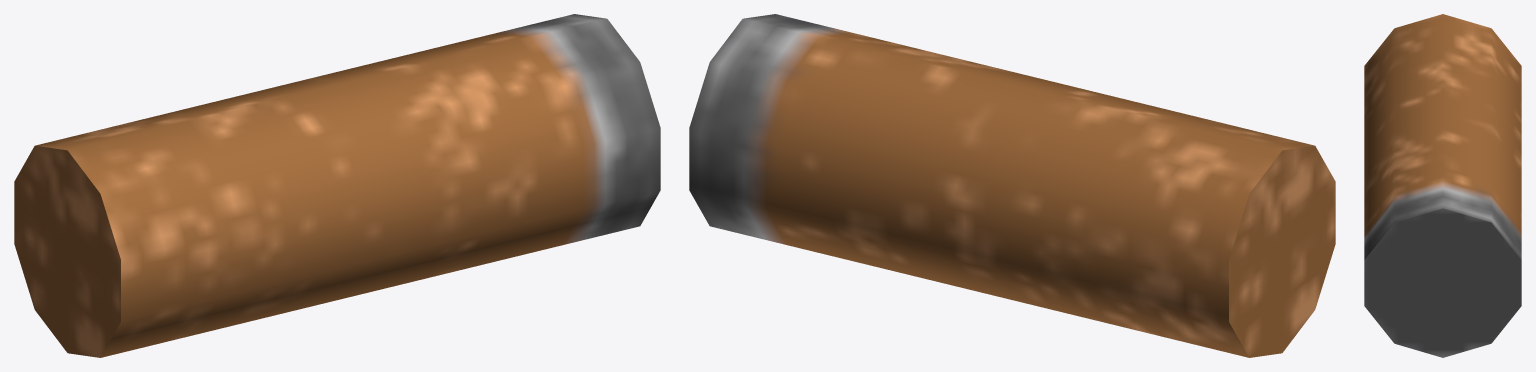
Rendered from SM_Cigarette_03.fbx.
3 renders of one model, left to right at view 1: azimuth 30°, elevation 25°; view 2: azimuth 150°, elevation 25°; view 3: azimuth 270°, elevation 25°, orthographic. The views are drawn at different scales.
Parts seen in each view (by area): view 1: SM_Cigarette_03_LOD0; view 2: SM_Cigarette_03_LOD0; view 3: SM_Cigarette_03_LOD0.
Boxes of the visible parts, <box> form: SM_Cigarette_03_LOD0: <box>14,14,660,357</box>; SM_Cigarette_03_LOD0: <box>689,14,1335,357</box>; SM_Cigarette_03_LOD0: <box>1364,14,1521,357</box>.
Bounding box in the file's own units: 2.16 × 0.7368 × 0.7747.
